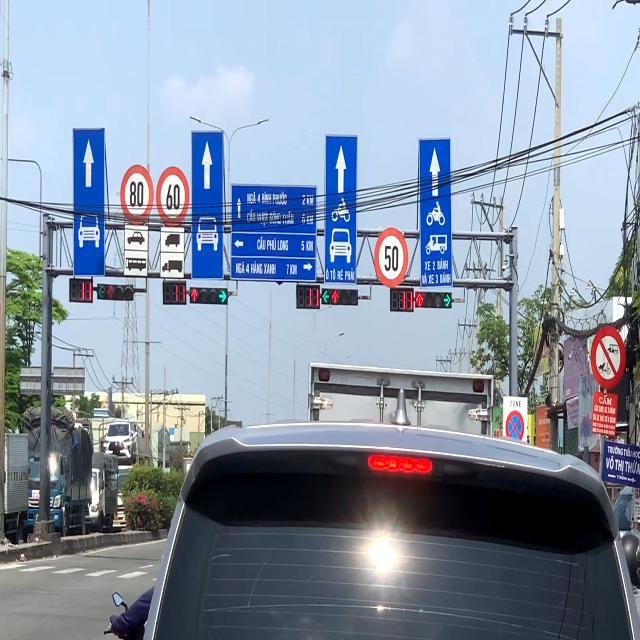P.127: (371, 223, 409, 292), (120, 163, 154, 230), (158, 164, 188, 225)
P.130: (505, 409, 525, 448)
